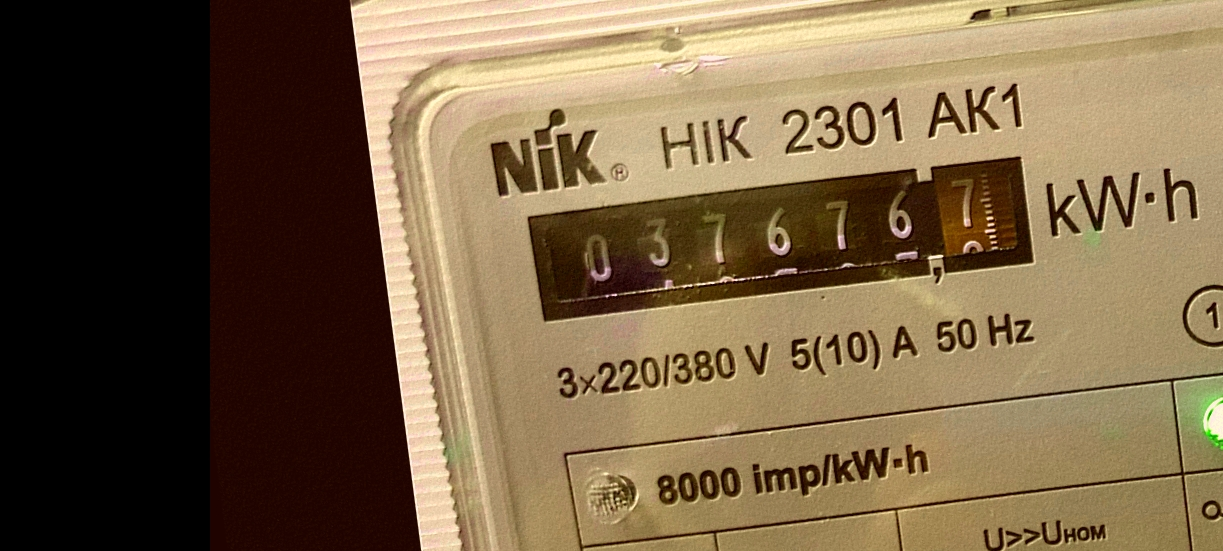0: (580, 227, 620, 286)
3: (641, 211, 676, 271)
6: (760, 201, 799, 259), (882, 185, 919, 243)
7: (821, 195, 860, 256), (699, 207, 737, 267), (949, 172, 984, 231)
screen: (511, 133, 1054, 346)
